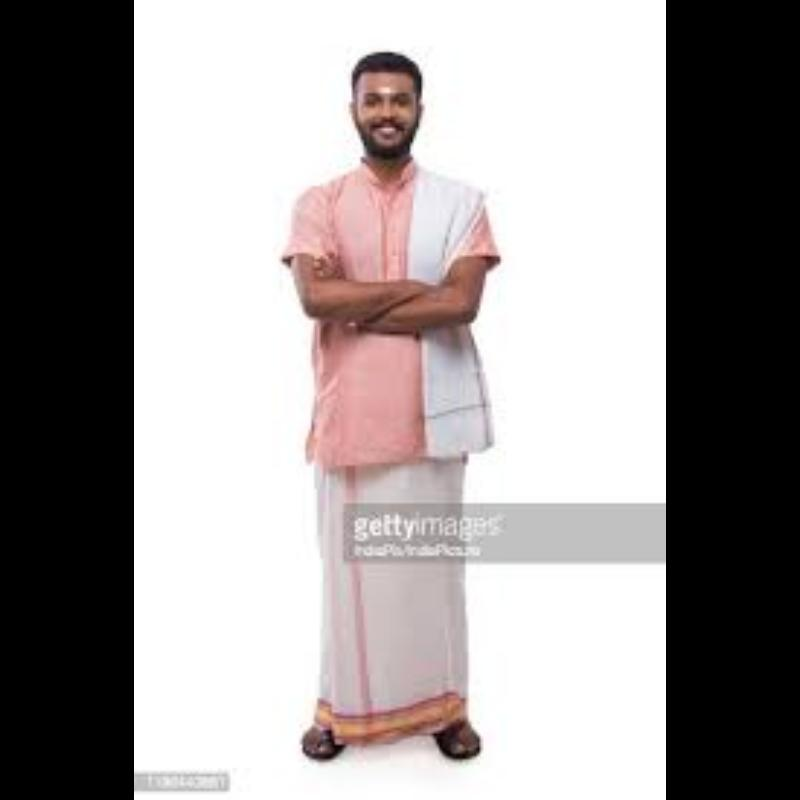Dhoti: (285, 443, 537, 756)
Shirt: (274, 136, 590, 477)
